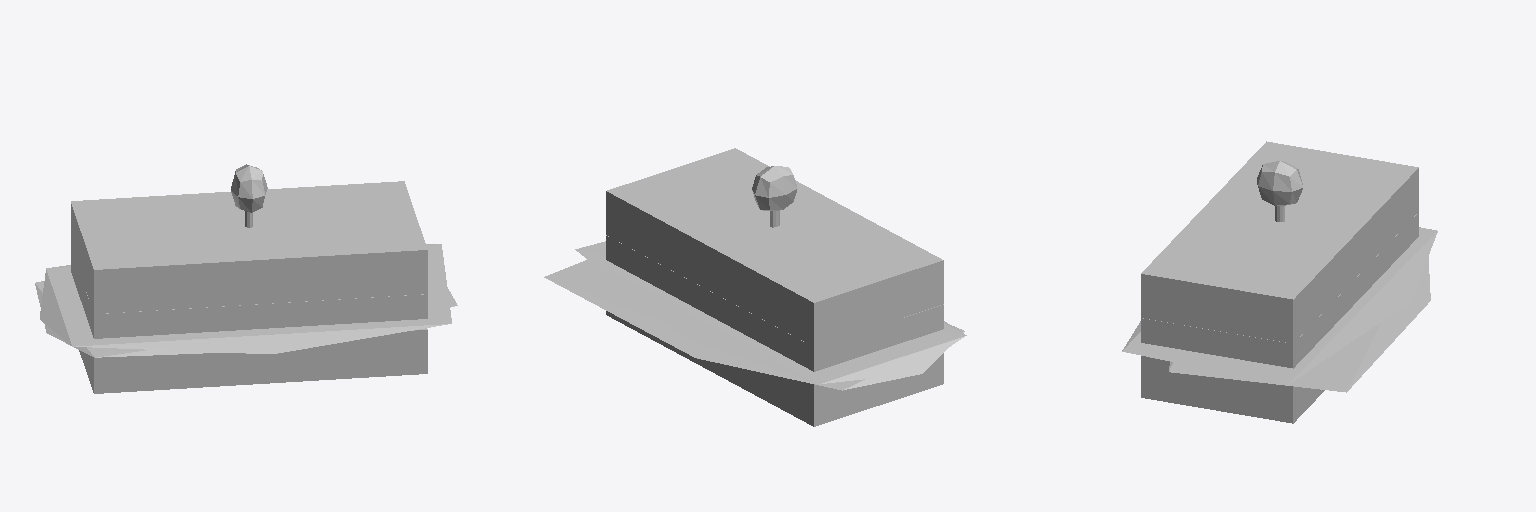
File: sandwichModel.obj
3 renders of one model, left to right at view 1: azimuth 30°, elevation 25°; view 2: azimuth 150°, elevation 25°; view 3: azimuth 270°, elevation 25°, orthographic.
Parts seen in each view (by area): view 1: Cube.001; view 2: Cube.001; view 3: Cube.001.
Part boxes in pixels (left/top/right/bottom): Cube.001: left=35, top=164, right=457, bottom=393; Cube.001: left=544, top=148, right=966, bottom=426; Cube.001: left=1122, top=141, right=1437, bottom=423.
Size of the model in its own units: 5.37 by 2.47 by 3.85.